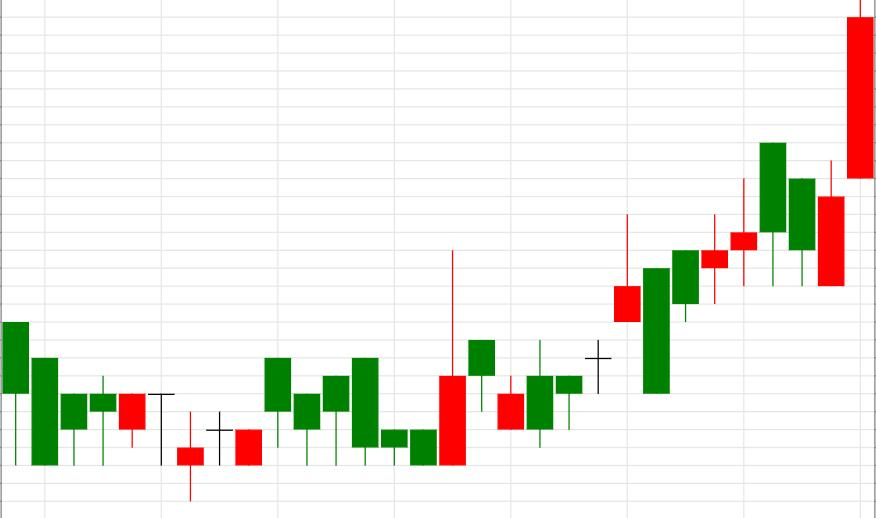bullish_engulfing_rise: (264, 251, 465, 465)
